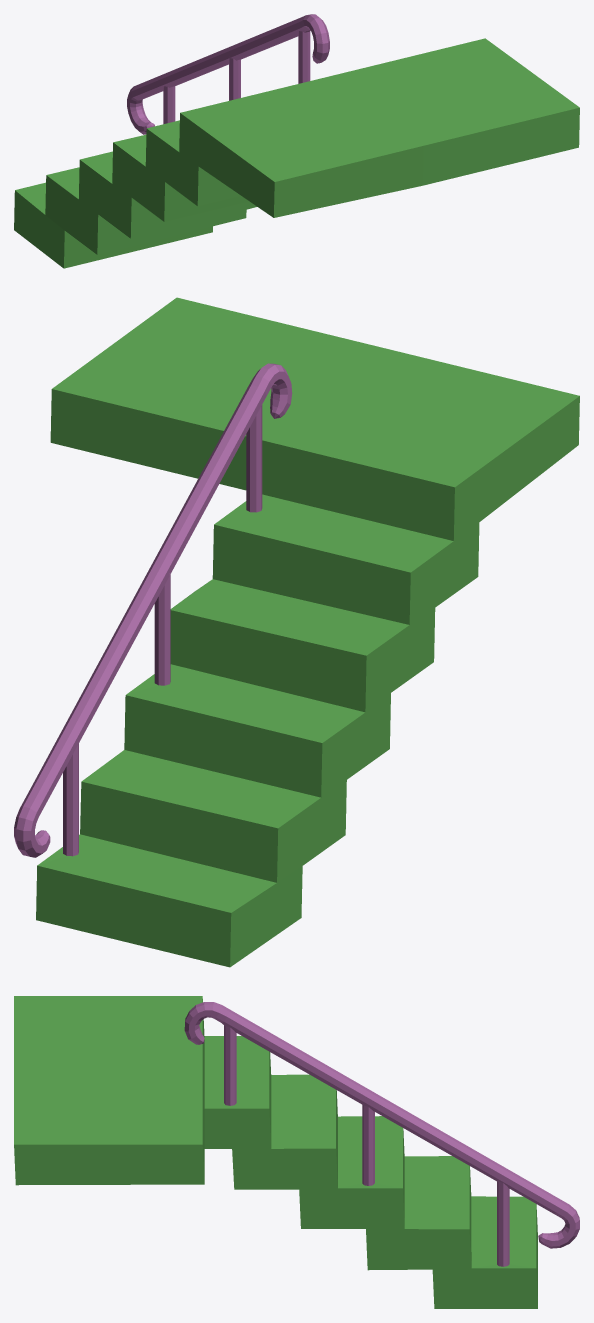
The model's file is lvl2_stairs.fbx.
3 renders of one model, top to bottom at view 1: azimuth 30°, elevation 25°; view 2: azimuth 150°, elevation 25°; view 3: azimuth 270°, elevation 25°, orthographic. The views are drawn at different scales.
Visible parts, largest first — view 1: pCylinder3; view 2: pCylinder3; view 3: pCylinder3.
Boxes of the visible parts, x1,y1,x2,y2 form: pCylinder3: (14, 14, 579, 268); pCylinder3: (14, 297, 579, 967); pCylinder3: (14, 996, 579, 1308).
Bounding box in the file's own units: 1.74 × 1.65 × 2.81.
